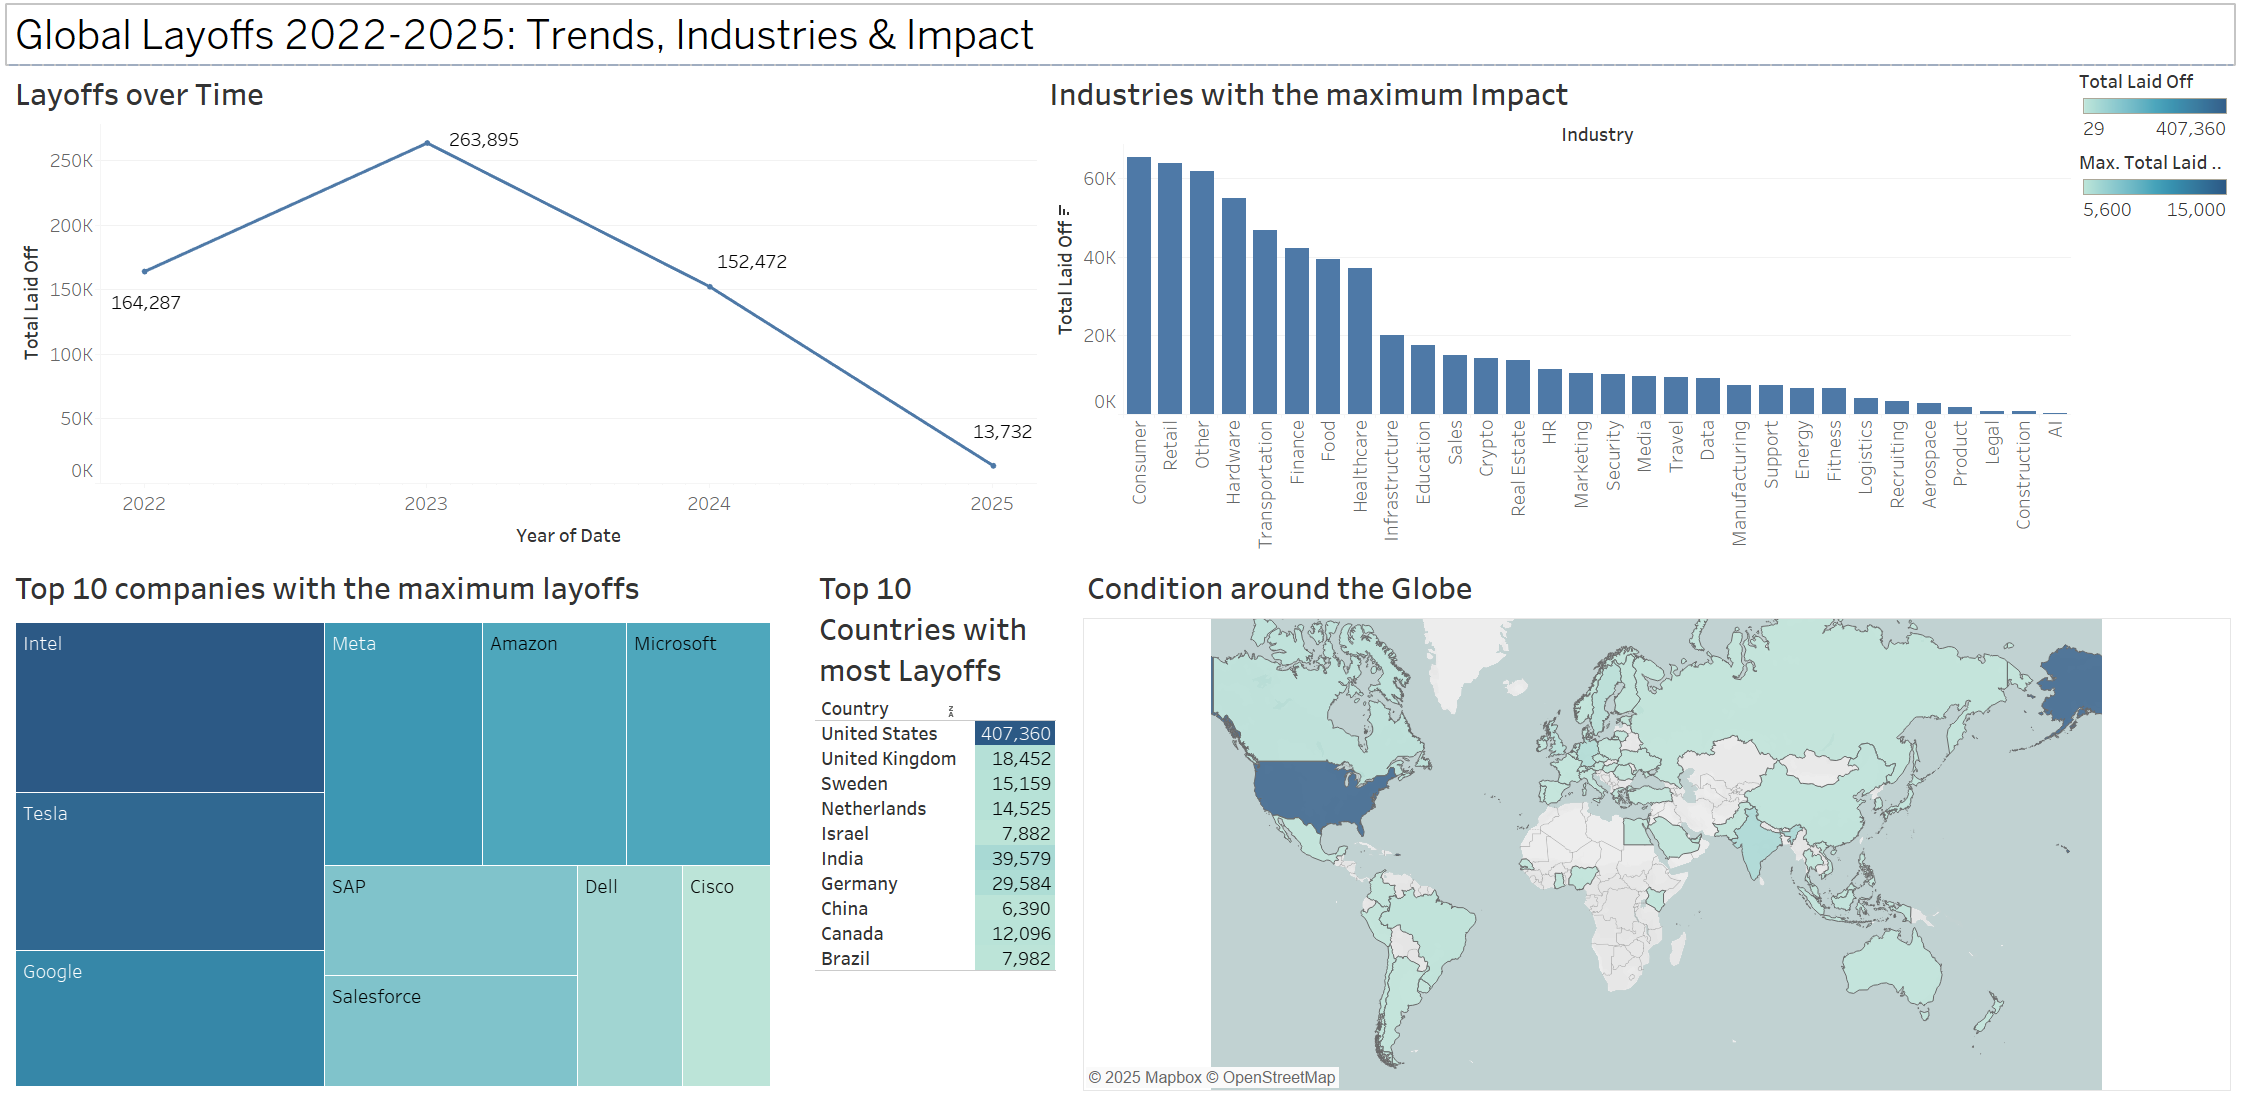

The dashboard page shown, as its layout file describes it:
{"tool":"tableau","page":{"name":"Dashboard 1","canvas":[1000,1000],"units":"permille","ordinal":0},"visuals":[{"type":"title","box":[3.6,7.2,992.9,53.3]},{"type":"worksheet","title":"Layoffs over Time","mark":"Automatic","rows":["Total Laid Off"],"cols":["Date"],"box":[3.6,60.6,460.8,446.4]},{"type":"worksheet","title":"Industries with the maximum Impact","mark":"Automatic","rows":["Total Laid Off"],"cols":["Industry"],"box":[464.3,60.6,460.8,446.4]},{"type":"legend","title":"Condition around the Globe","param":"[federated.0m6a8q41yweiai1goft7v1y4ncou].[sum:Total Laid Off:qk]","box":[925.1,60.6,71.3,73.2]},{"type":"legend","title":"Top 10 companies with the maximum layoffs","param":"[federated.0m6a8q41yweiai1goft7v1y4ncou].[max:Total Laid Off:qk]","box":[925.1,133.8,71.3,73.2]},{"type":"worksheet","title":"Top 10 companies with the maximum layoffs","mark":"Automatic","box":[3.6,507,358.3,485.8]},{"type":"worksheet","title":"Top 10 Countries with most Layoffs","mark":"Square","rows":["Country"],"box":[361.9,507,119.4,485.8]},{"type":"worksheet","title":"Condition around the Globe","mark":"Automatic","box":[481.3,507,515.1,485.8]}]}

Visuals, with their boxes on the dashboard's canvas, which has no fixed pixel size, in thousandths of its width and height (x1, y1, x2, y2). These are canvas units, not pixel positions in the 2242x1096 screenshot, which may show the page scaled, cropped or inside an application window:
title: 4, 7, 996, 60
"Layoffs over Time" worksheet: 4, 61, 464, 507
"Industries with the maximum Impact" worksheet: 464, 61, 925, 507
"Condition around the Globe" legend: 925, 61, 996, 134
"Top 10 companies with the maximum layoffs" legend: 925, 134, 996, 207
"Top 10 companies with the maximum layoffs" worksheet: 4, 507, 362, 993
"Top 10 Countries with most Layoffs" worksheet (Square marks): 362, 507, 481, 993
"Condition around the Globe" worksheet: 481, 507, 996, 993
